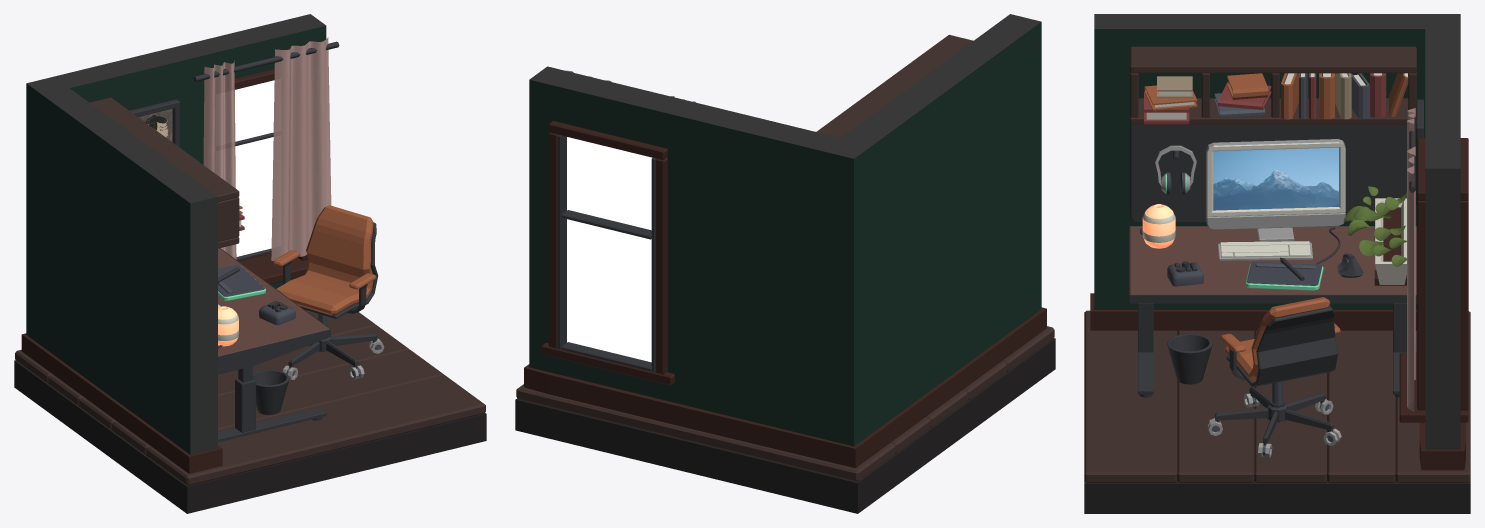
File: cozy_workplace_corner.glb
3 renders of one model, left to right at view 1: azimuth 30°, elevation 25°; view 2: azimuth 150°, elevation 25°; view 3: azimuth 270°, elevation 25°, orthographic. The views are drawn at different scales.
Visible parts, largest first — view 1: Walls, Floor (planks), Floor, Curtain R, Chair, Table, window plane, Walls (baseboard), Shelf, Curtain L, Window, trash bucket (+5 smaller); view 2: Walls, Floor, window plane, Walls (baseboard), Window, Floor (planks), Window (inside), Shelf; view 3: Walls, Floor (planks), Table, IKEA Pegboard, Monoblock, Shelf, Floor, Chair, Walls (baseboard), Window, Pot with plants, Curtain R (+20 smaller).
Boxes of the visible parts, bbox=[...] form: Walls: bbox=[26, 14, 326, 454]; Floor (planks): bbox=[15, 310, 485, 485]; Floor: bbox=[14, 360, 486, 513]; Curtain R: bbox=[271, 37, 331, 260]; Chair: bbox=[273, 205, 384, 379]; Table: bbox=[218, 248, 330, 442]; window plane: bbox=[235, 80, 274, 256]; Walls (baseboard): bbox=[21, 333, 222, 473]; Shelf: bbox=[90, 97, 239, 248]; Curtain L: bbox=[203, 60, 236, 259]; Window: bbox=[234, 69, 308, 284]; trash bucket: bbox=[252, 369, 289, 414]; Walls: bbox=[529, 14, 1041, 446]; Floor: bbox=[515, 338, 1055, 513]; window plane: bbox=[567, 137, 652, 362]; Walls (baseboard): bbox=[524, 307, 1046, 468]; Window: bbox=[541, 121, 674, 385]; Floor (planks): bbox=[516, 326, 1054, 481]; Window (inside): bbox=[557, 135, 655, 372]; Shelf: bbox=[816, 34, 973, 137]; Walls: bbox=[1094, 14, 1460, 449]; Floor (planks): bbox=[1084, 310, 1470, 482]; Table: bbox=[1129, 226, 1417, 397]; IKEA Pegboard: bbox=[1130, 124, 1406, 222]; Monoblock: bbox=[1206, 139, 1345, 241]; Shelf: bbox=[1130, 46, 1416, 124]; Floor: bbox=[1084, 481, 1470, 513]; Chair: bbox=[1207, 297, 1341, 457]; Walls (baseboard): bbox=[1090, 293, 1465, 470]; Window: bbox=[1399, 138, 1468, 422]; Pot with plants: bbox=[1343, 186, 1406, 285]; Curtain R: bbox=[1407, 146, 1415, 411].
Bounding box in the file's own units: 3.5 × 3.41 × 3.5.
21 materials, 2 textured.
